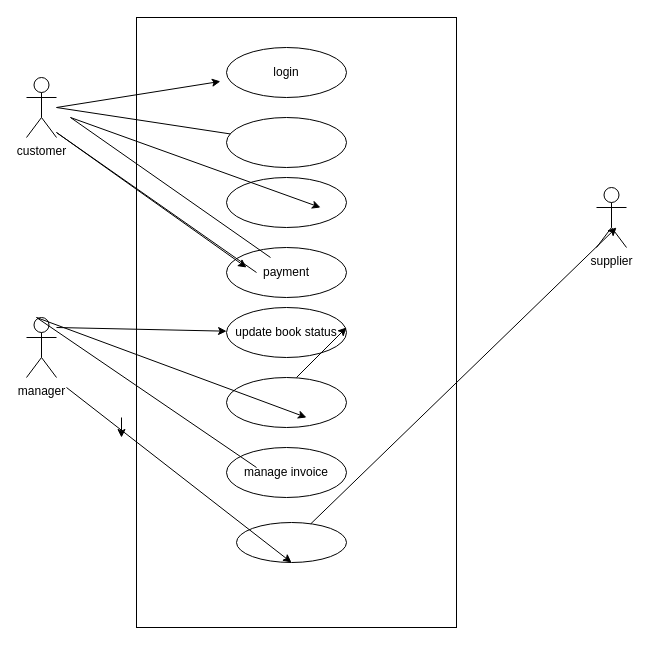
Some shapes in this 650 by 645 pixel diagram are drawn without their labels. The shapes that lost their labels are listed below. From the top down, each one's box as (x1, y1, x2, y2) in pixels, then its label:
(226, 116, 346, 168): search bbok
(226, 176, 346, 228): purchase book
(226, 376, 346, 428): add/delete books
(236, 522, 346, 562): order book from supplier
